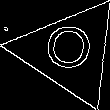O_S: (43, 24, 96, 79)
